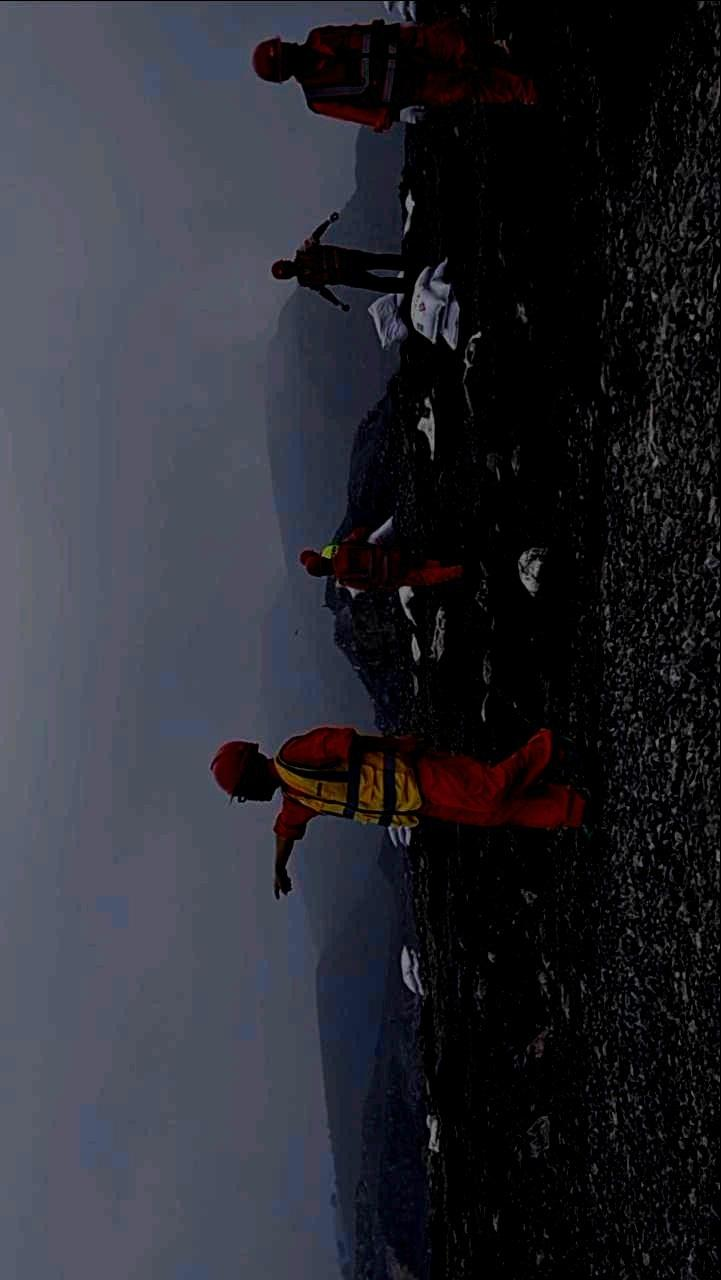helmet: (208, 738, 275, 805), (251, 34, 302, 85), (305, 554, 333, 579), (270, 258, 296, 280), (299, 549, 319, 566)
